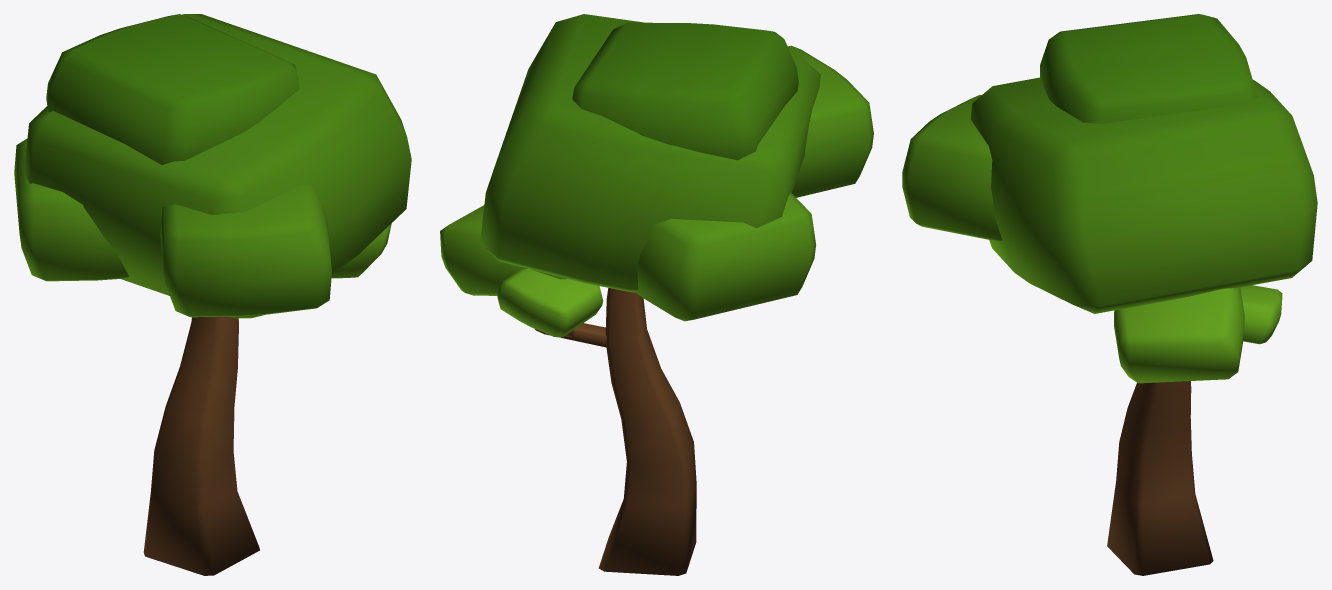
File: Tree_2_4.glb
3 renders of one model, left to right at view 1: azimuth 30°, elevation 25°; view 2: azimuth 150°, elevation 25°; view 3: azimuth 270°, elevation 25°, orthographic. The views are drawn at different scales.
Visible parts, largest first — view 1: Tree_2_4; view 2: Tree_2_4; view 3: Tree_2_4.
Boxes of the visible parts, bbox=[...] form: Tree_2_4: bbox=[14, 14, 411, 575]; Tree_2_4: bbox=[440, 14, 873, 575]; Tree_2_4: bbox=[902, 14, 1317, 575].
Bounding box in the file's own units: 2.43 × 3.37 × 2.59.
Materials: 1 (1 with a texture image).
